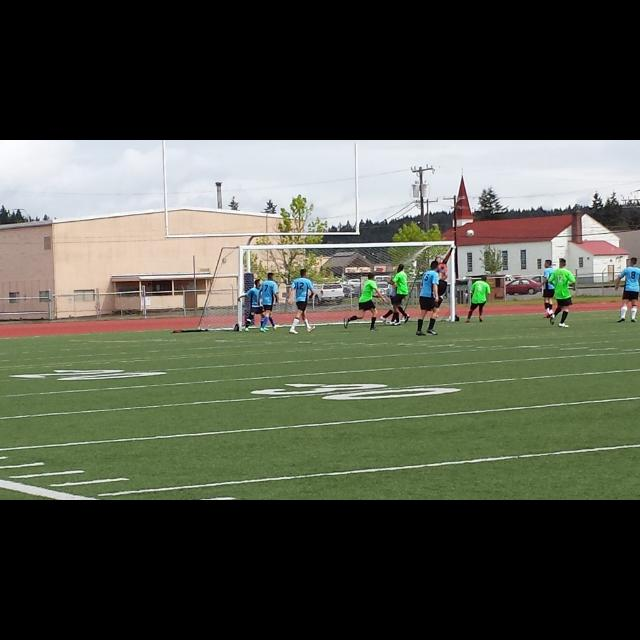Football: (464, 226, 474, 238)
